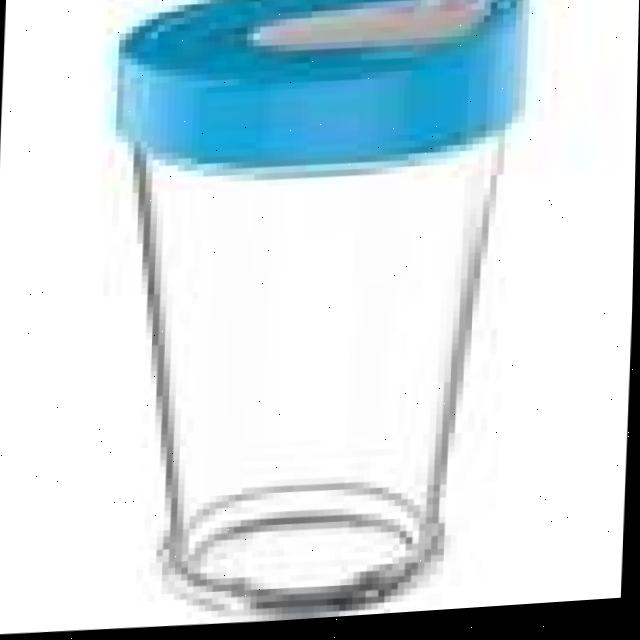Dry: (92, 0, 530, 635)
